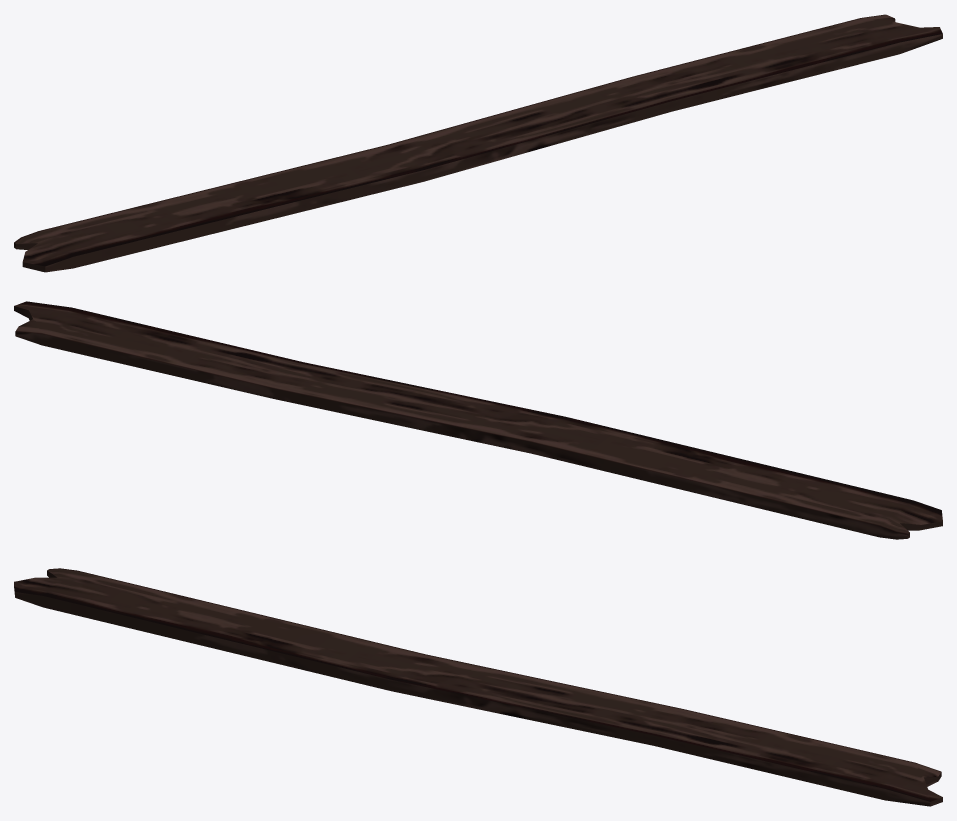
The model's file is SM_A_Plank_Long_01.fbx.
The picture shows the model from 3 angles, top to bottom: view 1: azimuth 30°, elevation 25°; view 2: azimuth 150°, elevation 25°; view 3: azimuth 330°, elevation 25°; orthographic projection.
Visible parts, largest first — view 1: SM_A_Plank_Large_02; view 2: SM_A_Plank_Large_02; view 3: SM_A_Plank_Large_02.
Boxes of the visible parts, x1,y1,x2,y2 form: SM_A_Plank_Large_02: [14, 14, 942, 272]; SM_A_Plank_Large_02: [14, 301, 942, 539]; SM_A_Plank_Large_02: [14, 568, 942, 806].
Bounding box in the file's own units: 375 × 34.03 × 4.5.
